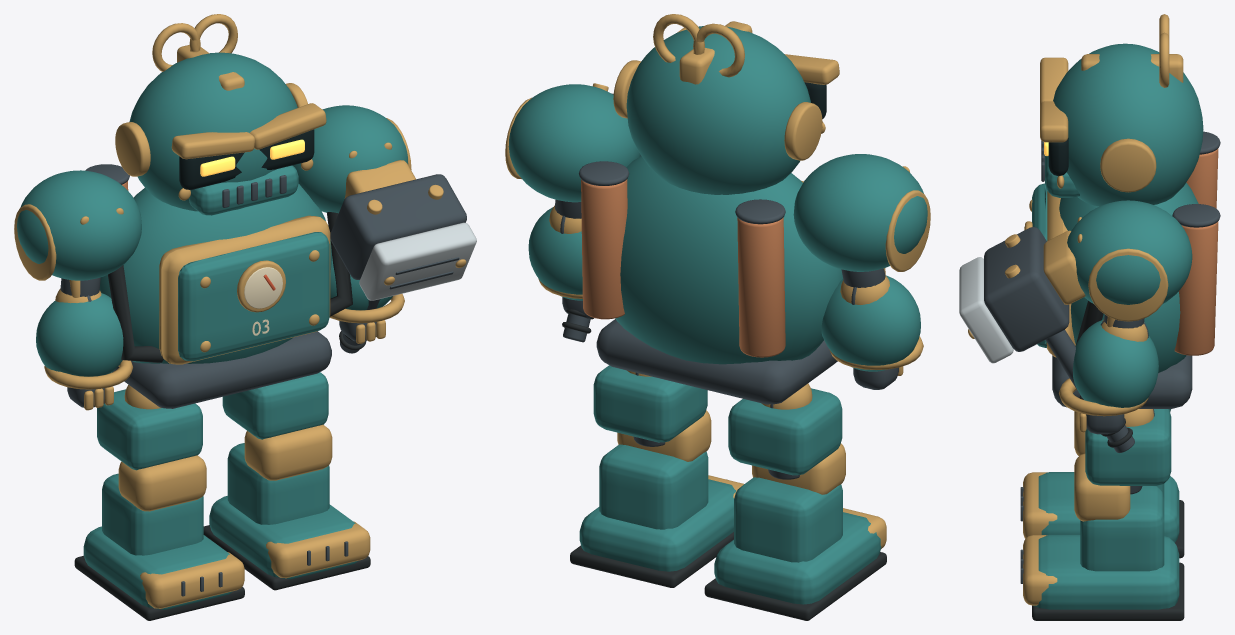
The model's file is boiler_knight.t3.glb.
3 renders of one model, left to right at view 1: azimuth 30°, elevation 25°; view 2: azimuth 150°, elevation 25°; view 3: azimuth 270°, elevation 25°, orthographic. The views are drawn at different scales.
Parts seen in each view (by area): view 1: slot_torso__clay_petrol_enamel__clay, slot_legL__clay_petrol_enamel__clay, slot_head__clay_petrol_enamel__clay, slot_legR__clay_petrol_enamel__clay, slot_armL__clay_petrol_enamel__clay, slot_torso__forged_bluelead_steel__protected, slot_head__worn_warm_brass__protected, weapon_right__forged_bluelead_steel__protected, slot_legL__worn_warm_brass__protected, slot_legR__worn_warm_brass__protected, slot_armR__clay_petrol_enamel__clay, slot_torso__worn_warm_brass__protected (+14 smaller); view 2: slot_torso__clay_petrol_enamel__clay, slot_legL__clay_petrol_enamel__clay, slot_head__clay_petrol_enamel__clay, slot_legR__clay_petrol_enamel__clay, slot_torso__burnished_copper__protected, slot_armL__clay_petrol_enamel__clay, slot_armR__clay_petrol_enamel__clay, slot_torso__forged_bluelead_steel__protected, slot_head__worn_warm_brass__protected, armL_elbow__clay_petrol_enamel__clay, armR_elbow__clay_petrol_enamel__clay, slot_legL__worn_warm_brass__protected (+8 smaller); view 3: slot_legR__clay_petrol_enamel__clay, slot_head__clay_petrol_enamel__clay, slot_armR__clay_petrol_enamel__clay, weapon_right__forged_bluelead_steel__protected, slot_head__worn_warm_brass__protected, armR_elbow__clay_petrol_enamel__clay, slot_torso__burnished_copper__protected, slot_torso__clay_petrol_enamel__clay, slot_legR__worn_warm_brass__protected, slot_torso__forged_bluelead_steel__protected, slot_legL__clay_petrol_enamel__clay, weapon_right__honed_steel_edge__protected (+10 smaller).
Boxes of the visible parts, x1=… form: slot_torso__clay_petrol_enamel__clay: x1=99, y1=184, x2=332, y2=363; slot_legL__clay_petrol_enamel__clay: x1=83, y1=389, x2=232, y2=609; slot_head__clay_petrol_enamel__clay: x1=129, y1=52, x2=298, y2=215; slot_legR__clay_petrol_enamel__clay: x1=209, y1=372, x2=358, y2=579; slot_armL__clay_petrol_enamel__clay: x1=17, y1=170, x2=141, y2=280; slot_torso__forged_bluelead_steel__protected: x1=85, y1=164, x2=331, y2=408; slot_head__worn_warm_brass__protected: x1=115, y1=14, x2=326, y2=200; weapon_right__forged_bluelead_steel__protected: x1=330, y1=174, x2=466, y2=353; slot_legL__worn_warm_brass__protected: x1=118, y1=385, x2=244, y2=608; slot_legR__worn_warm_brass__protected: x1=244, y1=424, x2=370, y2=578; slot_armR__clay_petrol_enamel__clay: x1=292, y1=105, x2=408, y2=213; slot_torso__worn_warm_brass__protected: x1=159, y1=215, x2=330, y2=364; slot_torso__clay_petrol_enamel__clay: x1=615, y1=156, x2=842, y2=364; slot_legL__clay_petrol_enamel__clay: x1=714, y1=388, x2=881, y2=604; slot_head__clay_petrol_enamel__clay: x1=626, y1=26, x2=810, y2=194; slot_legR__clay_petrol_enamel__clay: x1=579, y1=365, x2=736, y2=571; slot_torso__burnished_copper__protected: x1=581, y1=179, x2=785, y2=357; slot_armL__clay_petrol_enamel__clay: x1=793, y1=154, x2=927, y2=271; slot_armR__clay_petrol_enamel__clay: x1=508, y1=84, x2=640, y2=202; slot_torso__forged_bluelead_steel__protected: x1=578, y1=161, x2=837, y2=404; slot_head__worn_warm_brass__protected: x1=613, y1=14, x2=839, y2=160; armL_elbow__clay_petrol_enamel__clay: x1=821, y1=275, x2=920, y2=371; armR_elbow__clay_petrol_enamel__clay: x1=528, y1=207, x2=582, y2=300; slot_legL__worn_warm_brass__protected: x1=752, y1=383, x2=886, y2=548; slot_legR__clay_petrol_enamel__clay: x1=1033, y1=409, x2=1179, y2=609; slot_head__clay_petrol_enamel__clay: x1=1045, y1=43, x2=1203, y2=206; slot_armR__clay_petrol_enamel__clay: x1=1067, y1=200, x2=1192, y2=304; weapon_right__forged_bluelead_steel__protected: x1=984, y1=227, x2=1134, y2=452; slot_head__worn_warm_brass__protected: x1=1040, y1=14, x2=1183, y2=192; armR_elbow__clay_petrol_enamel__clay: x1=1072, y1=319, x2=1158, y2=407; slot_torso__burnished_copper__protected: x1=1174, y1=148, x2=1218, y2=355; slot_torso__clay_petrol_enamel__clay: x1=1032, y1=182, x2=1198, y2=372; slot_legR__worn_warm_brass__protected: x1=1023, y1=409, x2=1153, y2=605; slot_torso__forged_bluelead_steel__protected: x1=1052, y1=131, x2=1220, y2=408; slot_legL__clay_petrol_enamel__clay: x1=1038, y1=409, x2=1179, y2=542; weapon_right__honed_steel_edge__protected: x1=959, y1=257, x2=1013, y2=363.
Size of the model in its own units: 2.21 by 2.98 by 1.3.
